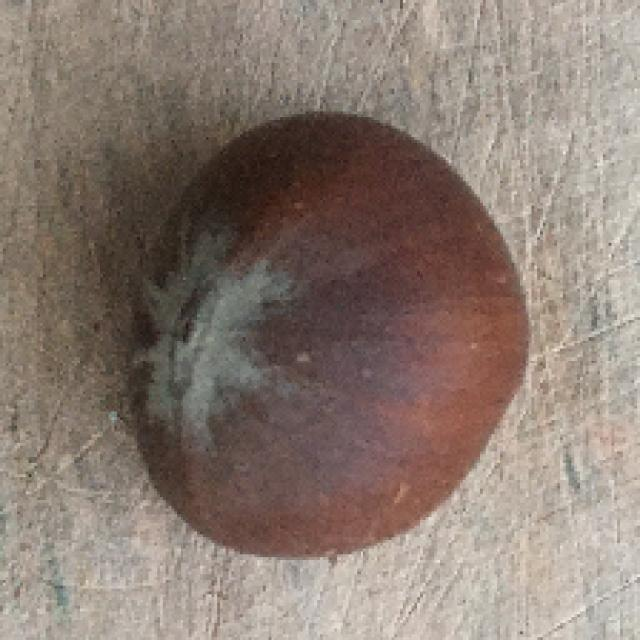qualityHazelnut: (125, 106, 528, 559)
